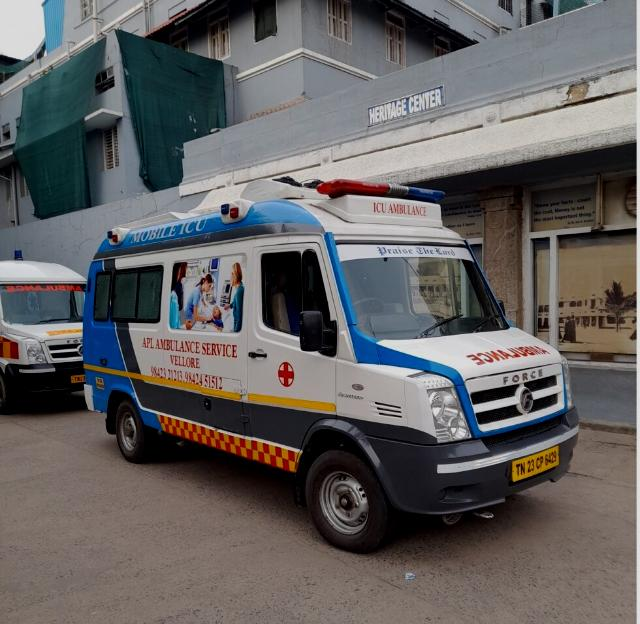ambulance: (81, 179, 579, 552), (0, 250, 85, 413)
